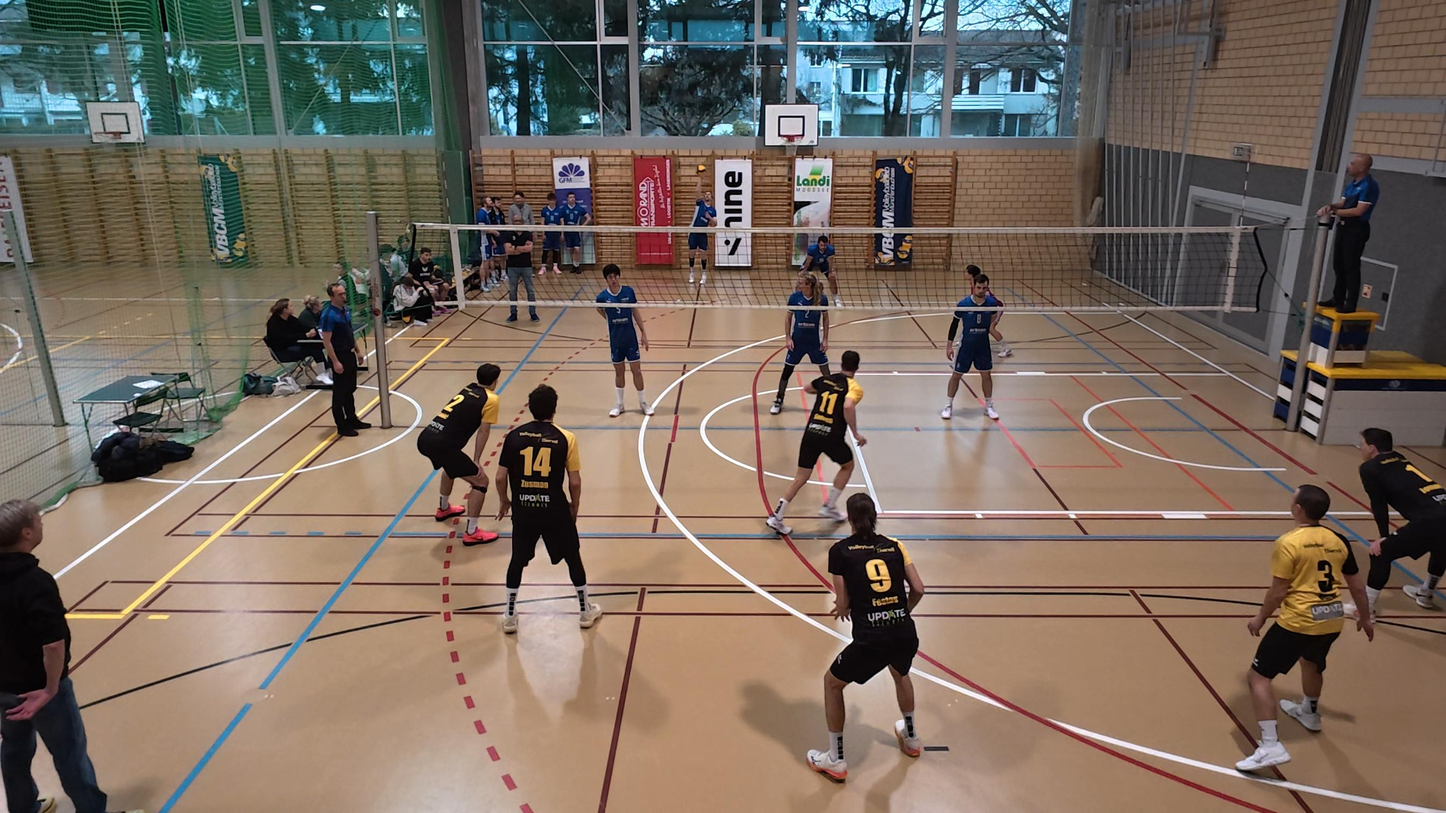battuta: (684, 175, 717, 286)
